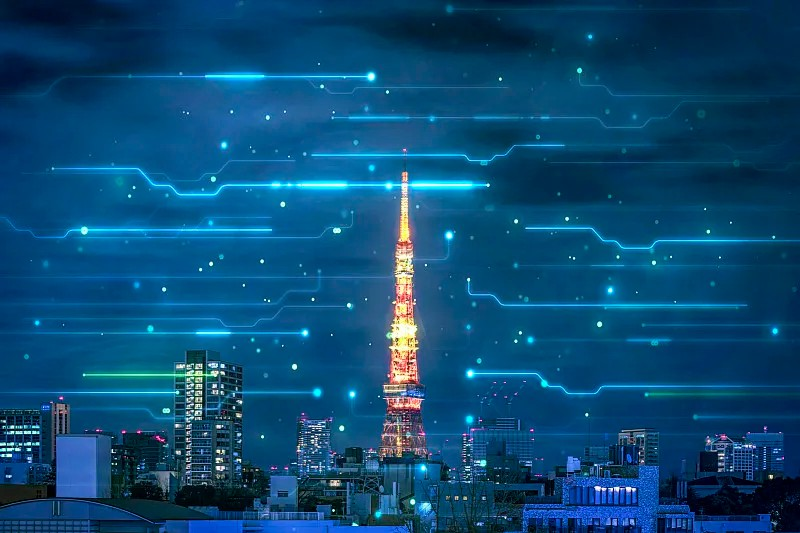Tokyo: (379, 146, 430, 459)
